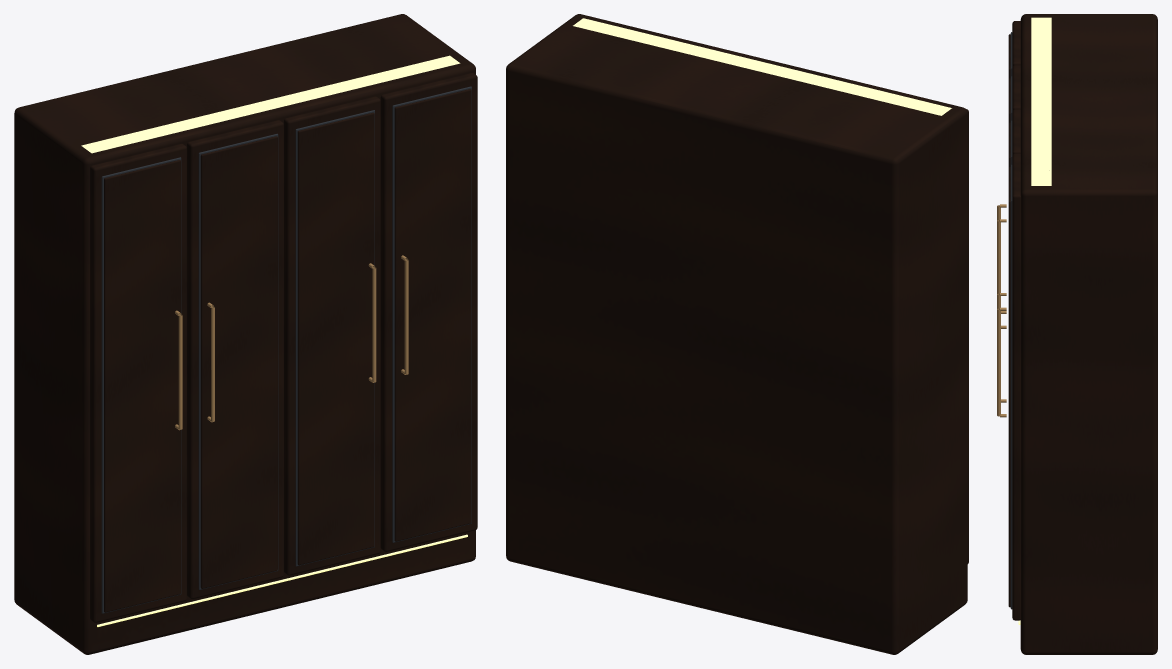
Rendered from paneled-wardrobe.glb.
3 renders of one model, left to right at view 1: azimuth 30°, elevation 25°; view 2: azimuth 150°, elevation 25°; view 3: azimuth 270°, elevation 25°, orthographic. The views are drawn at different scales.
Visible parts, largest first — view 1: Wardrobe carcass, Inset walnut door panel.002, Inset walnut door panel.003, Inset walnut door panel.001, Inset walnut door panel, Full height flush door.003, Full height flush door.001, Full height flush door, Full height flush door.002, Integrated cornice uplight, Recessed panel border.001, Recessed panel border.003 (+3 smaller); view 2: Wardrobe carcass, Integrated cornice uplight, Full height flush door; view 3: Wardrobe carcass, Full height flush door.003, Integrated cornice uplight, Recessed panel border.003, Inset walnut door panel.003, Long brass wardrobe pull.003, Full height flush door, Full height flush door.001, Full height flush door.002, Long brass wardrobe pull.001.
Boxes of the visible parts, x1=… form: Wardrobe carcass: x1=14, y1=14, x2=475, y2=654; Inset walnut door panel.002: x1=297, y1=112, x2=374, y2=565; Inset walnut door panel.003: x1=394, y1=89, x2=471, y2=541; Inset walnut door panel.001: x1=200, y1=136, x2=277, y2=588; Inset walnut door panel: x1=104, y1=160, x2=180, y2=612; Full height flush door.003: x1=380, y1=73, x2=477, y2=551; Full height flush door.001: x1=187, y1=120, x2=283, y2=599; Full height flush door: x1=90, y1=143, x2=186, y2=622; Full height flush door.002: x1=284, y1=96, x2=380, y2=575; Integrated cornice uplight: x1=81, y1=55, x2=460, y2=153; Recessed panel border.001: x1=198, y1=133, x2=278, y2=589; Recessed panel border.003: x1=392, y1=86, x2=471, y2=542; Wardrobe carcass: x1=506, y1=14, x2=967, y2=654; Integrated cornice uplight: x1=573, y1=18, x2=951, y2=115; Full height flush door: x1=966, y1=109, x2=968, y2=563; Wardrobe carcass: x1=1020, y1=14, x2=1157, y2=654; Full height flush door.003: x1=1012, y1=153, x2=1020, y2=620; Integrated cornice uplight: x1=1031, y1=17, x2=1051, y2=185; Recessed panel border.003: x1=1010, y1=164, x2=1012, y2=609; Inset walnut door panel.003: x1=1008, y1=167, x2=1010, y2=607; Long brass wardrobe pull.003: x1=997, y1=308, x2=1000, y2=416; Full height flush door: x1=1012, y1=21, x2=1020, y2=67; Full height flush door.001: x1=1012, y1=65, x2=1020, y2=111; Full height flush door.002: x1=1012, y1=109, x2=1020, y2=155; Long brass wardrobe pull.001: x1=997, y1=220, x2=1000, y2=293.
Bounding box in the file's own units: 1.95 × 2.36 × 0.739.
4 materials, 1 textured.
